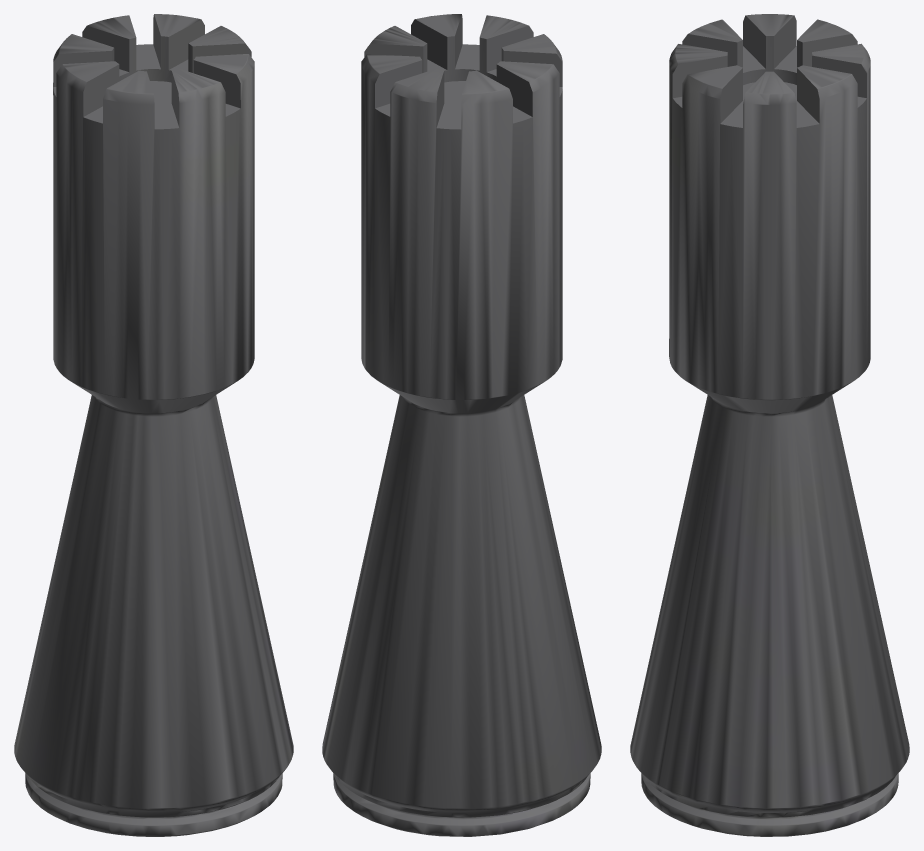
The model's file is 01_kral_cerna.glb.
3 views of the same model, side by side, from view 1: azimuth 30°, elevation 25°; view 2: azimuth 150°, elevation 25°; view 3: azimuth 270°, elevation 25° (orthographic).
Visible parts, largest first — view 1: 01_kral_cerna; view 2: 01_kral_cerna; view 3: 01_kral_cerna.
Boxes of the visible parts, left/top/right/bottom form: 01_kral_cerna: left=14, top=14, right=293, bottom=836; 01_kral_cerna: left=322, top=14, right=601, bottom=836; 01_kral_cerna: left=630, top=14, right=909, bottom=836.
Size of the model in its own units: 0.0337 by 0.0972 by 0.0338.
1 material, 1 textured.
